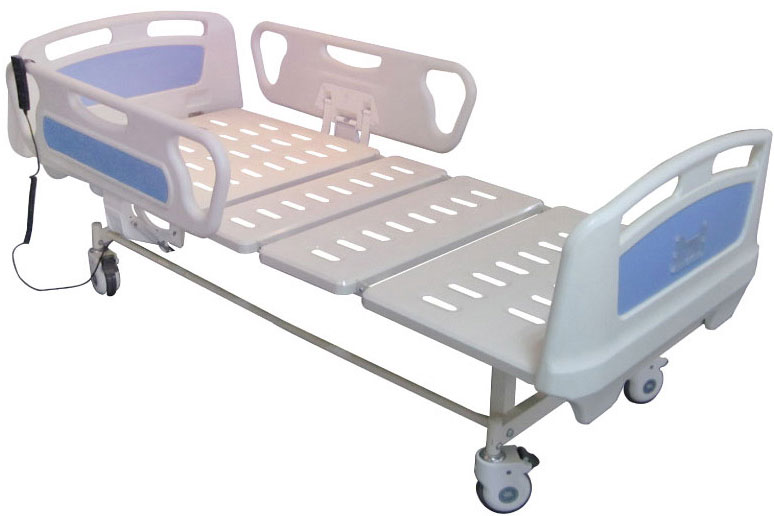trolley_bed: (3, 9, 774, 512)
